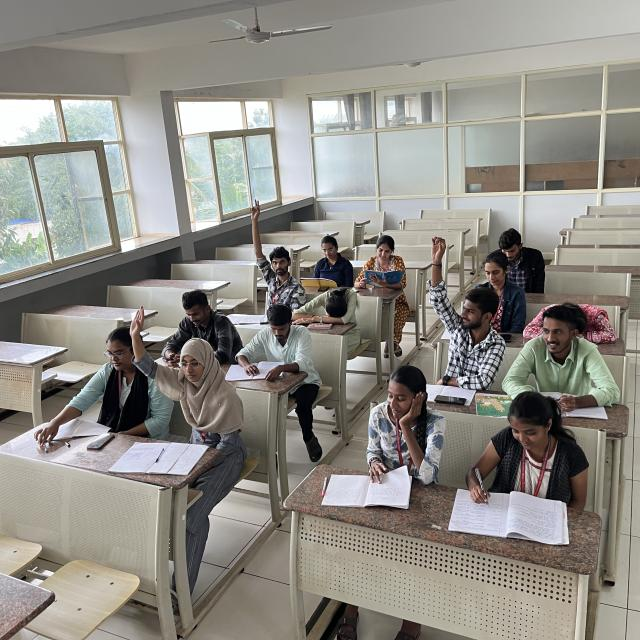Hand Rising: (128, 304, 230, 439), (429, 234, 498, 382), (246, 198, 304, 303)
Reading: (357, 366, 434, 500), (75, 326, 161, 431), (221, 304, 305, 381), (300, 234, 354, 288), (364, 236, 411, 290)
Sleeping: (524, 297, 625, 347), (293, 285, 360, 326)
Using Phone: (157, 286, 231, 368)
Writing: (463, 392, 562, 520)
